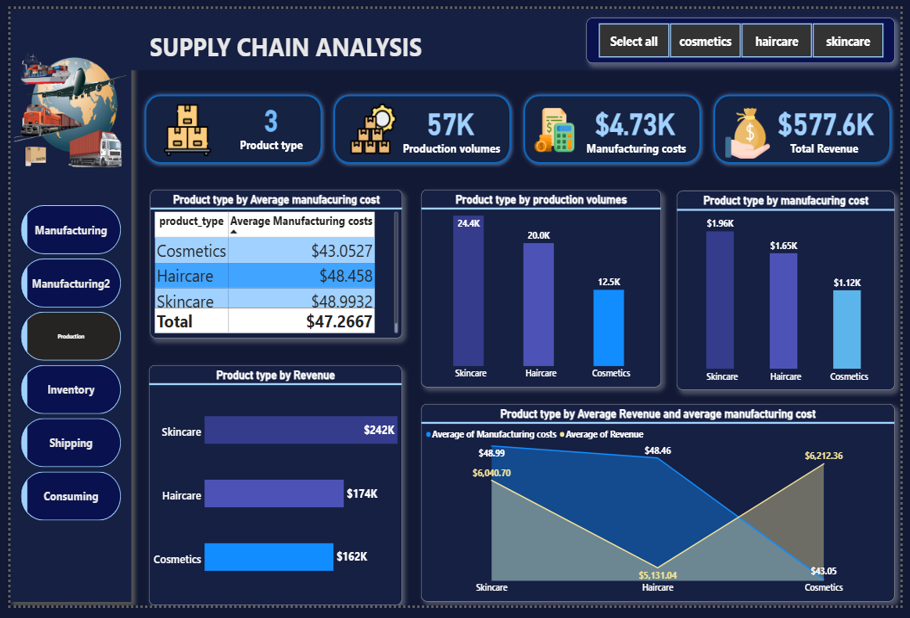

The page's visual inventory and layout, read from the dashboard file:
{"tool":"powerbi","page":{"name":"Production","canvas":[2300,1400],"ordinal":2},"visuals":[{"type":"shape","box":[0,0,312,1392],"z":0},{"type":"shape","box":[308,0,1992,144],"z":1000},{"type":"textbox","box":[355.8,40.9,1945.8,132.2],"z":2000},{"type":"image","box":[3.1,40.9,311.7,384.1],"z":3000},{"type":"shape","box":[337.4,192.1,478.6,182.6],"z":4000},{"type":"card","title":"total shipping costs","fields":{"Values":["Count(supply_chain_data.Product type)"]},"box":[456.5,192.1,431.3,157.4],"z":5000},{"type":"textbox","box":[432,312,240,72],"z":6000},{"type":"columnChart","title":"Product type by production volumes","fields":{"Category":["supply_chain_data.product_type"],"Y":["Sum(supply_chain_data.Production volumes)"]},"box":[1060,423.3,620,463.3],"z":7000},{"type":"slicer","fields":{"Values":["supply_chain_data.Product type"]},"box":[1487.9,21.2,797,106.1],"z":8000},{"type":"columnChart","title":"Product type by manufacuring cost","fields":{"Y":["Sum(supply_chain_data.Manufacturing costs)"],"Category":["supply_chain_data.product_type"]},"box":[1720,426.7,563.3,466.7],"z":9000},{"type":"shape","box":[1804.6,192.1,478.6,182.6],"z":10000},{"type":"shape","box":[1316.6,192.1,478.6,182.6],"z":11000},{"type":"shape","box":[825.4,192.1,478.6,182.6],"z":12000},{"type":"card","fields":{"Values":["Sum(supply_chain_data.Revenue generated)"]},"box":[1911.1,182.6,387.3,192.1],"z":13000},{"type":"card","fields":{"Values":["Sum(supply_chain_data.Manufacturing costs)"]},"box":[1397.9,182.6,431.3,192.1],"z":14000},{"type":"card","fields":{"Values":["Sum(supply_chain_data.Production volumes)"]},"box":[966.6,182.6,336.9,192.1],"z":15000},{"type":"image","box":[384.1,217.2,144.8,132.2],"z":16000},{"type":"image","box":[1344.4,226.7,119.6,113.3],"z":17000},{"type":"image","box":[862.7,214.1,148,132.2],"z":18000},{"type":"barChart","title":"Product type by Revenue ","fields":{"Category":["supply_chain_data.product_type"],"Y":["Sum(supply_chain_data.Revenue generated)"]},"box":[356.7,836.7,653.3,563.3],"z":19000},{"type":"tableEx","title":"Product type by Average manufacuring cost","fields":{"Values":["supply_chain_data.product_type","Avg(supply_chain_data.Manufacturing costs)"]},"box":[360.6,424.2,651.5,348.5],"z":20000},{"type":"image","box":[1829.3,226.7,148,129.1],"z":21000},{"type":"lineChart","title":"Product type by Average Revenue and average manufacturing cost","fields":{"Category":["supply_chain_data.product_type"],"Y":["Avg(supply_chain_data.Manufacturing costs)"],"Y2":["Avg(supply_chain_data.Revenue generated)"]},"box":[1060,926.7,1223.3,463.3],"z":22000},{"type":"pageNavigator","box":[28.3,459.7,258.2,743],"z":23000}]}

Visuals, with their boxes on the page's 2300x1400 design canvas (x1, y1, x2, y2). These are canvas units, not pixel positions in the 910x618 screenshot, which may show the page scaled, cropped or inside an application window:
shape: rect(0, 0, 312, 1392)
shape: rect(308, 0, 2300, 144)
textbox: rect(356, 41, 2302, 173)
image: rect(3, 41, 315, 425)
shape: rect(337, 192, 816, 375)
"total shipping costs" card: rect(456, 192, 888, 350)
textbox: rect(432, 312, 672, 384)
"Product type by production volumes" columnChart: rect(1060, 423, 1680, 887)
slicer - supply_chain_data.Product type: rect(1488, 21, 2285, 127)
"Product type by manufacuring cost" columnChart: rect(1720, 427, 2283, 893)
shape: rect(1805, 192, 2283, 375)
shape: rect(1317, 192, 1795, 375)
shape: rect(825, 192, 1304, 375)
card - Sum(supply_chain_data.Revenue generated): rect(1911, 183, 2298, 375)
card - Sum(supply_chain_data.Manufacturing costs): rect(1398, 183, 1829, 375)
card - Sum(supply_chain_data.Production volumes): rect(967, 183, 1304, 375)
image: rect(384, 217, 529, 349)
image: rect(1344, 227, 1464, 340)
image: rect(863, 214, 1011, 346)
"Product type by Revenue " barChart: rect(357, 837, 1010, 1400)
"Product type by Average manufacuring cost" tableEx: rect(361, 424, 1012, 773)
image: rect(1829, 227, 1977, 356)
"Product type by Average Revenue and average manufacturing cost" lineChart: rect(1060, 927, 2283, 1390)
pageNavigator: rect(28, 460, 286, 1203)
